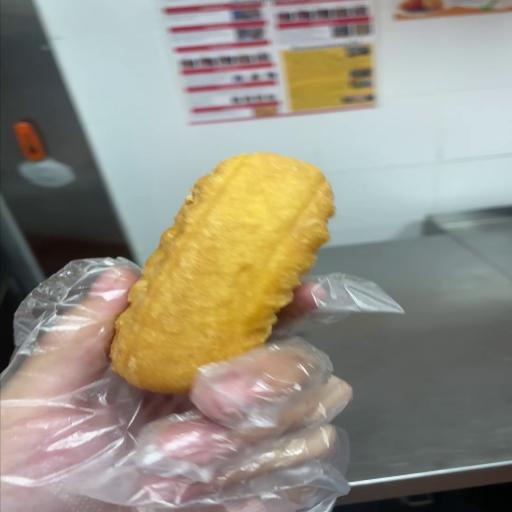brand_golden_good: (110, 153, 334, 393)
